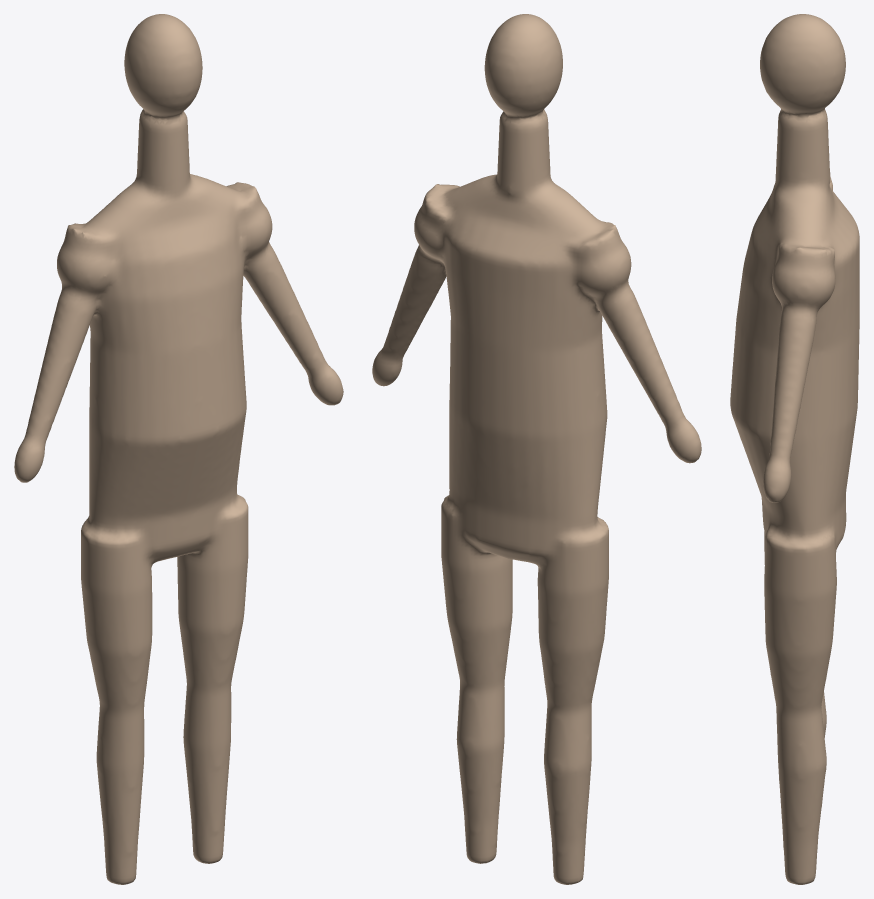
The model's file is mannequin_shirt_clo.glb.
The picture shows the model from 3 angles, left to right: view 1: azimuth 30°, elevation 25°; view 2: azimuth 150°, elevation 25°; view 3: azimuth 270°, elevation 25°; orthographic projection.
Parts seen in each view (by area): view 1: Mannequin; view 2: Mannequin; view 3: Mannequin.
Part boxes in pixels (x1,y1,x2,y2): Mannequin: [14, 14, 343, 884]; Mannequin: [372, 14, 701, 884]; Mannequin: [730, 14, 859, 884].
Bounding box in the file's own units: 0.7861 × 1.97 × 0.2737.
